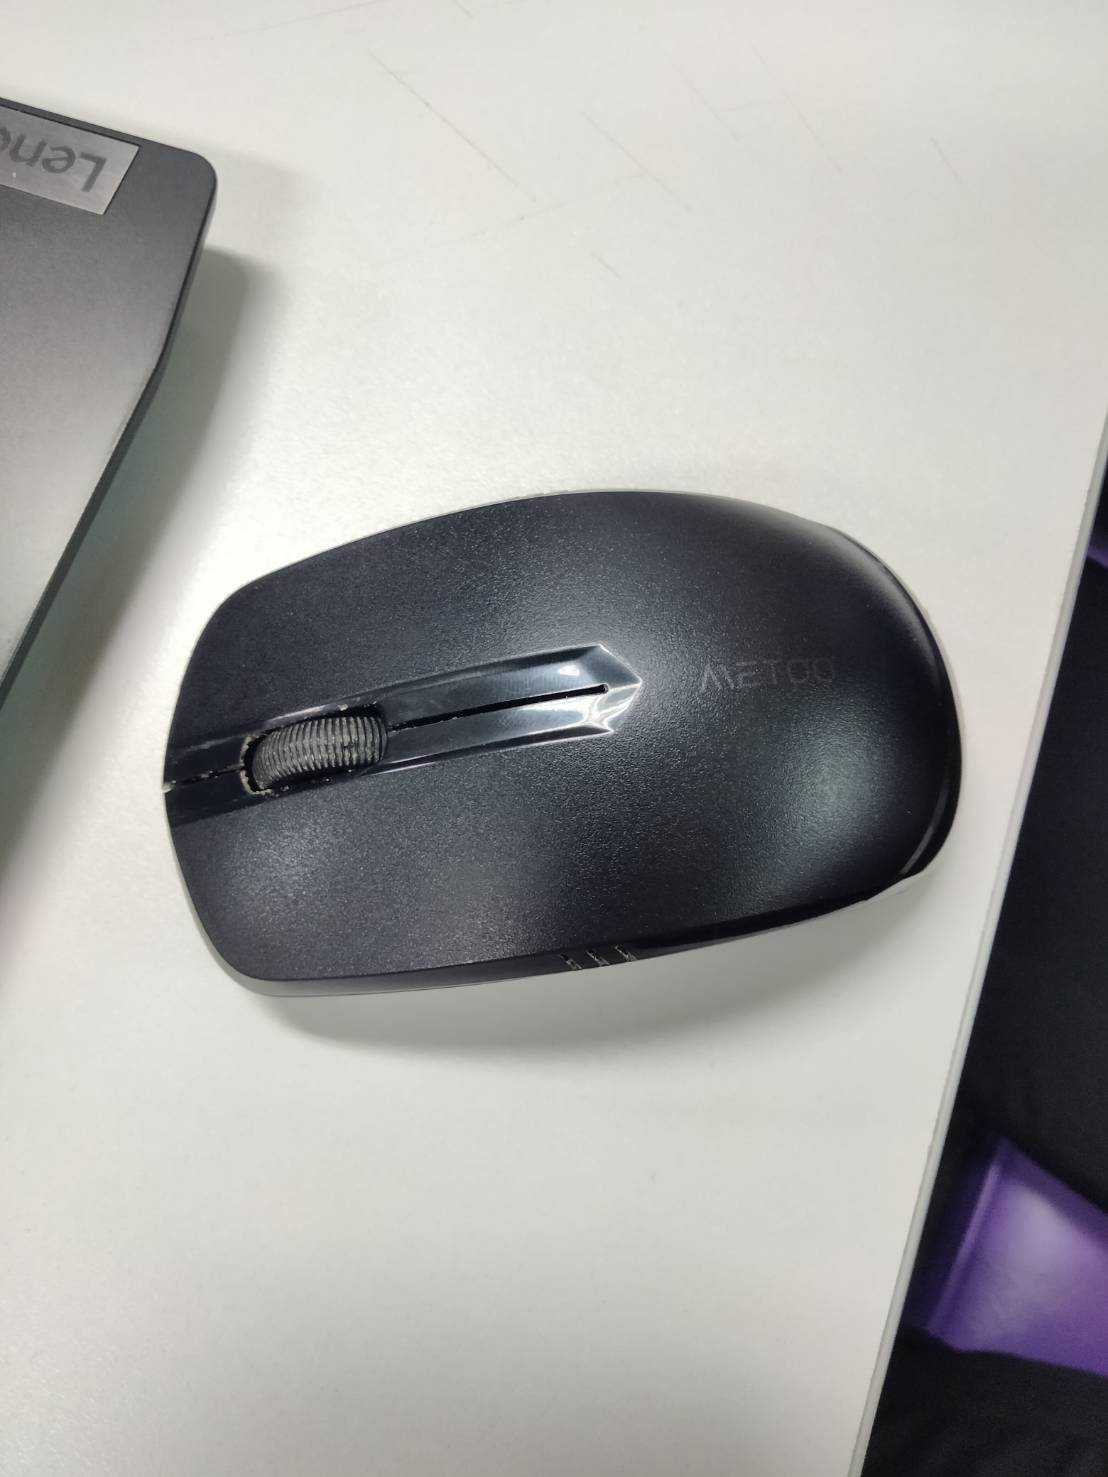mouse: (115, 466, 993, 1035)
